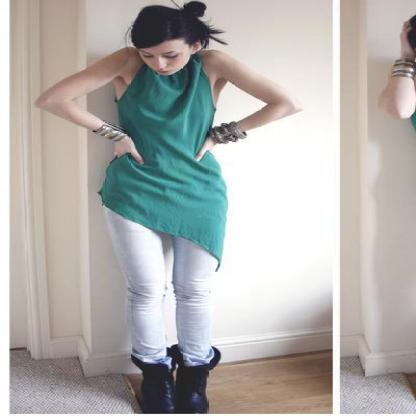dress: (98, 58, 226, 257)
pants: (96, 211, 221, 368)
shoe: (136, 344, 219, 413)
